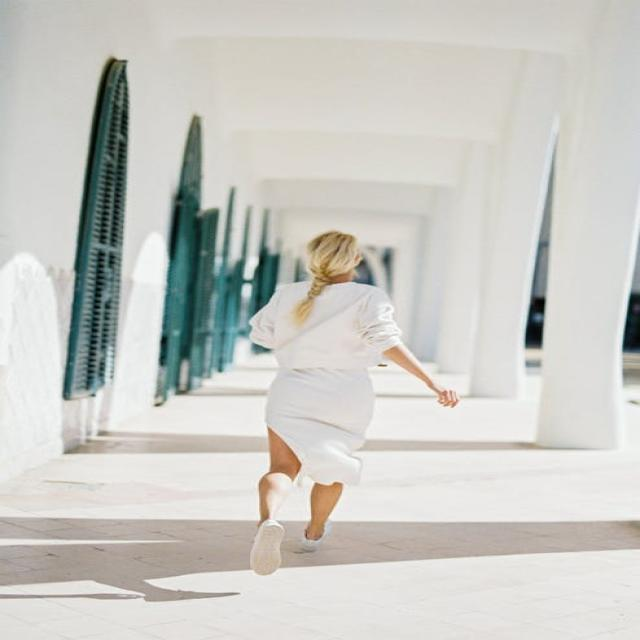running: (236, 226, 472, 578)
